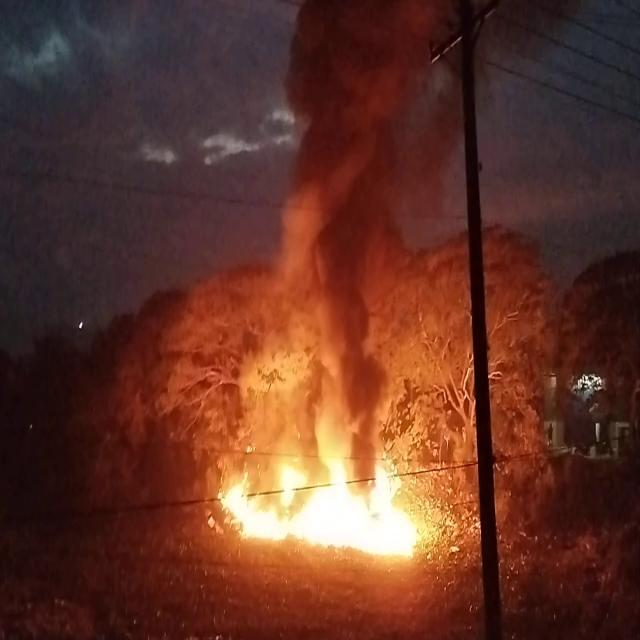Fire: (204, 427, 448, 569)
Smoke: (276, 0, 494, 422)
